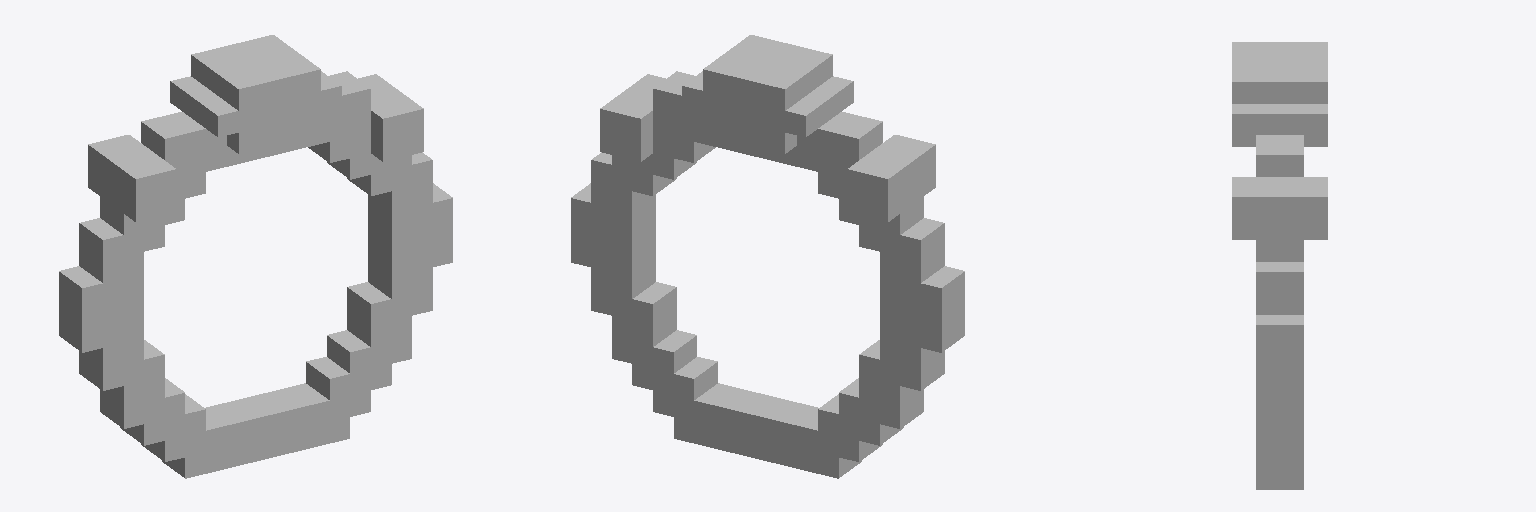
Rendered from SilverRing.obj.
3 renders of one model, left to right at view 1: azimuth 30°, elevation 25°; view 2: azimuth 150°, elevation 25°; view 3: azimuth 270°, elevation 25°, orthographic.
Bounding box in the file's own units: 18 × 18 × 4.